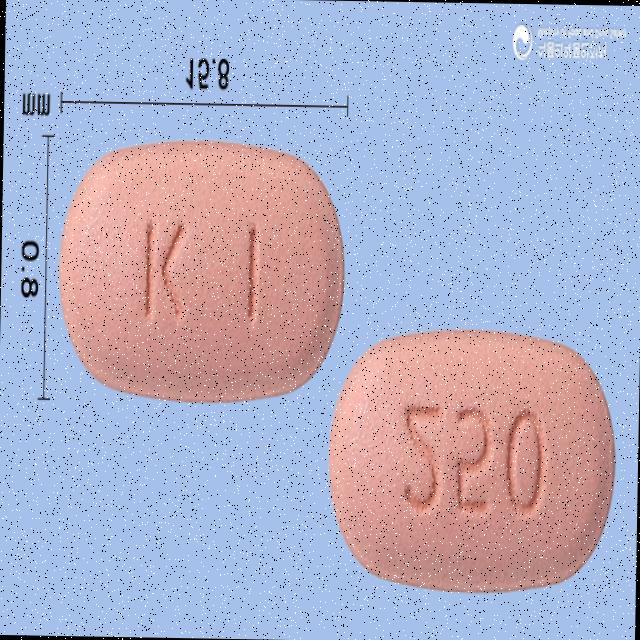Levogun: (326, 330, 618, 600), (55, 140, 348, 405)
